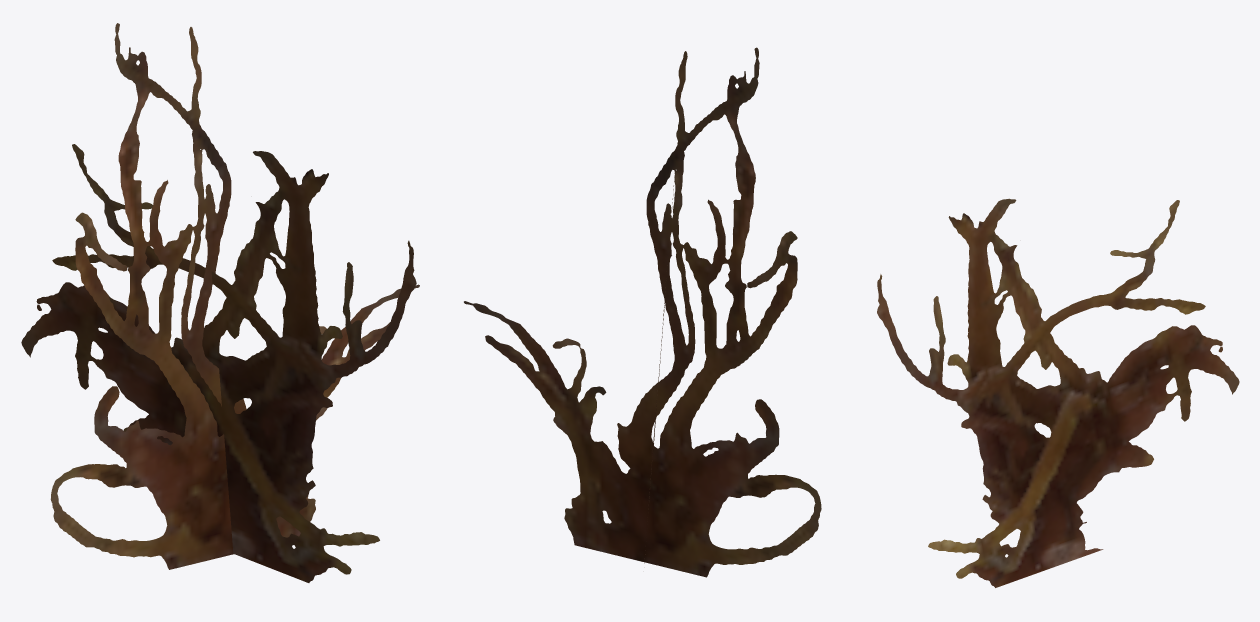
Rendered from seaweed_3_12.FBX.
3 views of the same model, side by side, from view 1: azimuth 30°, elevation 25°; view 2: azimuth 150°, elevation 25°; view 3: azimuth 270°, elevation 25° (orthographic). The views are drawn at different scales.
Parts seen in each view (by area): view 1: seaweed_3_12; view 2: seaweed_3_12; view 3: seaweed_3_12.
Boxes of the visible parts, x1,y1,x2,y2 form: seaweed_3_12: (21, 23, 419, 582); seaweed_3_12: (464, 47, 821, 577); seaweed_3_12: (877, 198, 1239, 587).
Size of the model in its own units: 11.58 by 16.94 by 11.7.
1 material, 1 textured.
